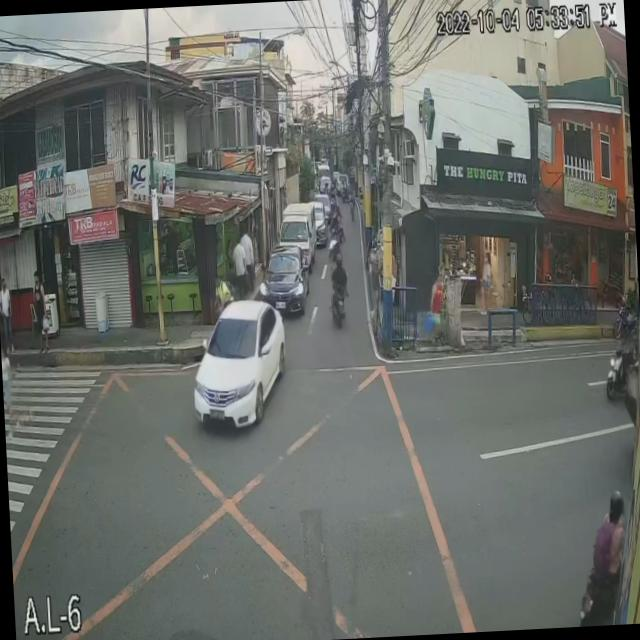invalid: (609, 492, 625, 517)
